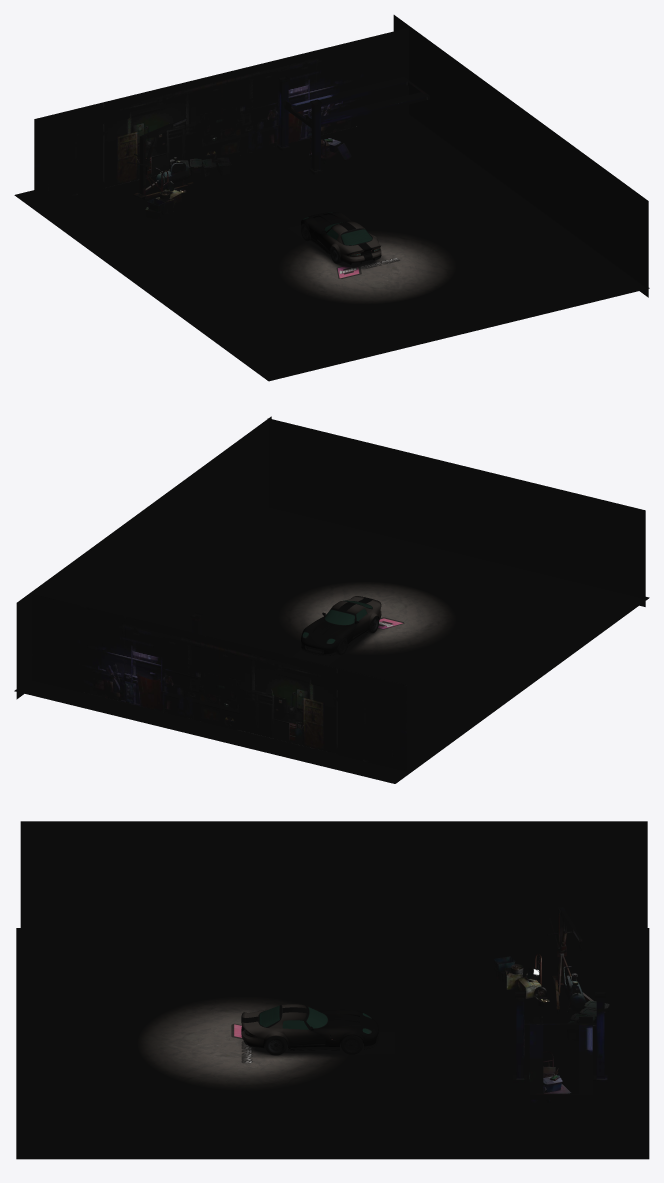
The model's file is customs.glb.
3 renders of one model, top to bottom at view 1: azimuth 30°, elevation 25°; view 2: azimuth 150°, elevation 25°; view 3: azimuth 270°, elevation 25°, orthographic. The views are drawn at different scales.
Visible parts, largest first — view 1: Floor_Plane_2K, Wall_Bake_Unlit, Cube.006, banshee_HD_Shells_VertexPaint, Plane.001, banshee_HD_Glass_SingleLayer; view 2: Wall_Bake_Unlit, Floor_Plane_2K, banshee_HD_Shells_VertexPaint, Plane.001, banshee_HD_Glass_SingleLayer; view 3: Floor_Plane_2K, Wall_Bake_Unlit, Cube.006, banshee_HD_Shells_VertexPaint, Plane.001, banshee_HD_Glass_SingleLayer, banshee_HD_Shells_VertexPaint_Cage.
Boxes of the visible parts, box(x1,y1,x2,y2) form: Floor_Plane_2K: box(14, 114, 649, 381); Wall_Bake_Unlit: box(34, 15, 648, 297); Cube.006: box(127, 76, 429, 219); banshee_HD_Shells_VertexPaint: box(301, 212, 381, 264); Plane.001: box(284, 224, 385, 270); banshee_HD_Glass_SingleLayer: box(303, 212, 380, 256); Wall_Bake_Unlit: box(16, 416, 645, 771); Floor_Plane_2K: box(14, 507, 649, 783); banshee_HD_Shells_VertexPaint: box(301, 596, 381, 655); Plane.001: box(288, 621, 386, 666); banshee_HD_Glass_SingleLayer: box(302, 600, 372, 643); Floor_Plane_2K: box(16, 928, 649, 1159); Wall_Bake_Unlit: box(20, 821, 647, 930); Cube.006: box(493, 907, 609, 1103); banshee_HD_Shells_VertexPaint: box(241, 1004, 378, 1054); Plane.001: box(243, 1029, 395, 1058); banshee_HD_Glass_SingleLayer: box(244, 1005, 372, 1035); banshee_HD_Shells_VertexPaint_Cage: box(242, 1035, 362, 1055).
Size of the model in its own units: 18.99 by 4.61 by 22.08.
17 materials, 13 textured.
